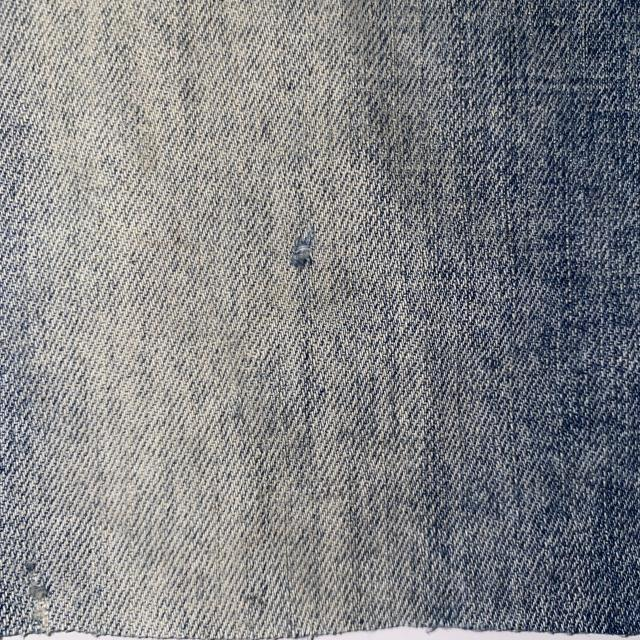Knot: (284, 227, 319, 274), (20, 580, 57, 614)
